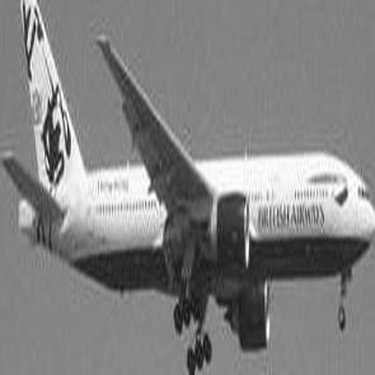airplane: (1, 2, 372, 369)
